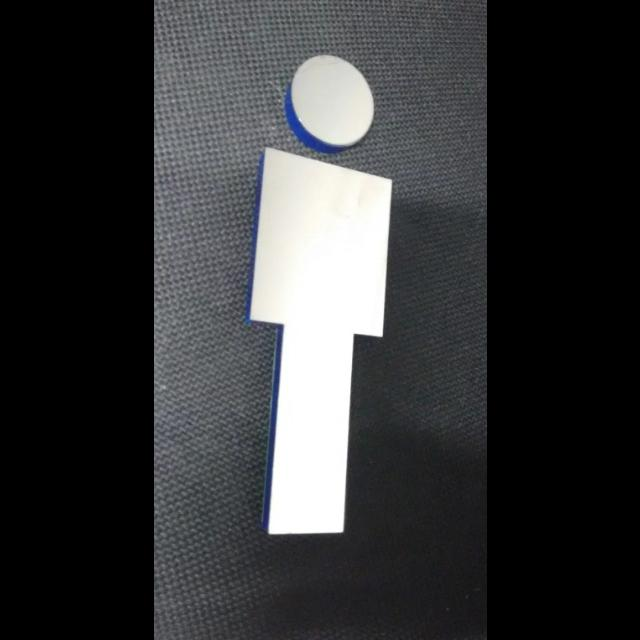wc nam: (245, 55, 390, 534)
